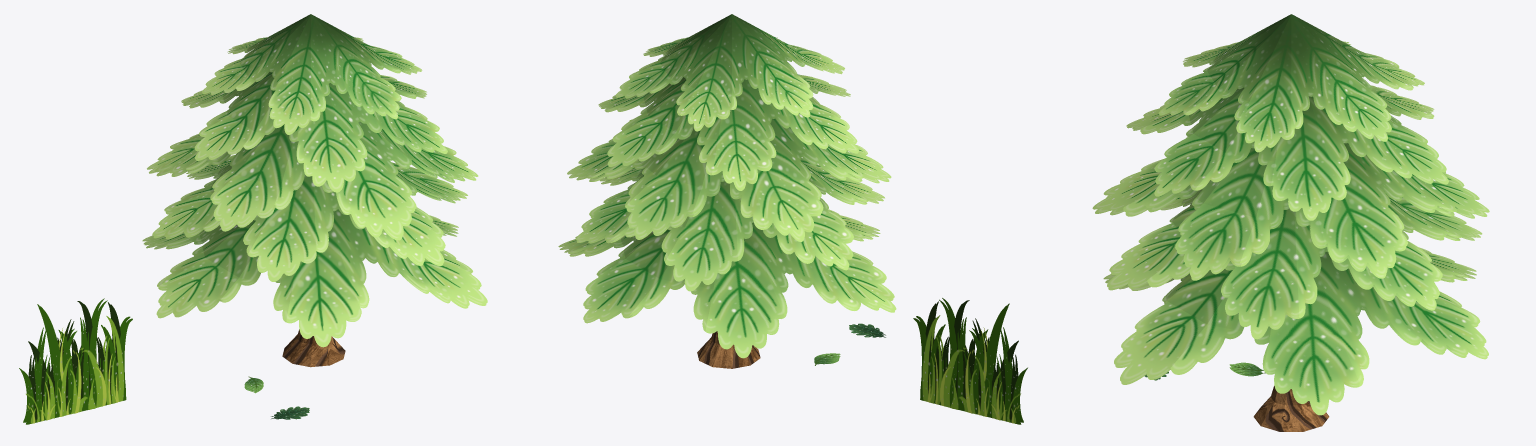
File: trees.fbx
3 views of the same model, side by side, from view 1: azimuth 30°, elevation 25°; view 2: azimuth 150°, elevation 25°; view 3: azimuth 270°, elevation 25° (orthographic). The views are drawn at different scales.
Parts seen in each view (by area): view 1: tree, Grass; view 2: tree, Grass; view 3: tree.
Part boxes in pixels (x1,y1,x2,y2): tree: [142, 14, 487, 367]; Grass: [19, 298, 132, 424]; tree: [558, 14, 896, 368]; Grass: [913, 298, 1027, 424]; tree: [1092, 14, 1489, 431].
Size of the model in its own units: 143 by 101 by 104.
